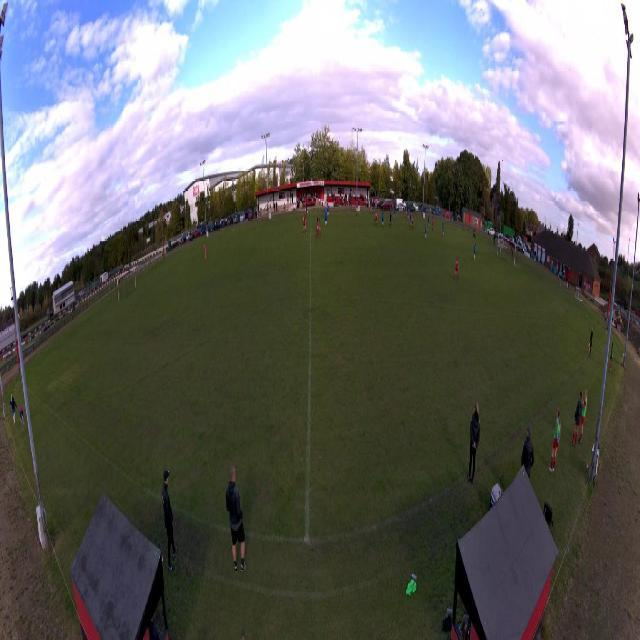ball: (370, 207, 371, 209)
player: (454, 256, 459, 282), (315, 217, 319, 241), (303, 214, 307, 235), (319, 215, 322, 239), (381, 210, 385, 227), (324, 208, 327, 226), (204, 242, 207, 260), (375, 211, 378, 228), (424, 223, 427, 240), (411, 214, 414, 230), (405, 206, 408, 220), (474, 242, 476, 261), (305, 201, 307, 218), (390, 211, 392, 228), (500, 242, 502, 259), (442, 220, 444, 236), (327, 202, 329, 217), (356, 202, 358, 216), (410, 213, 412, 227), (393, 206, 395, 220), (407, 207, 409, 221), (432, 217, 434, 231), (428, 214, 430, 228), (370, 204, 372, 215)
